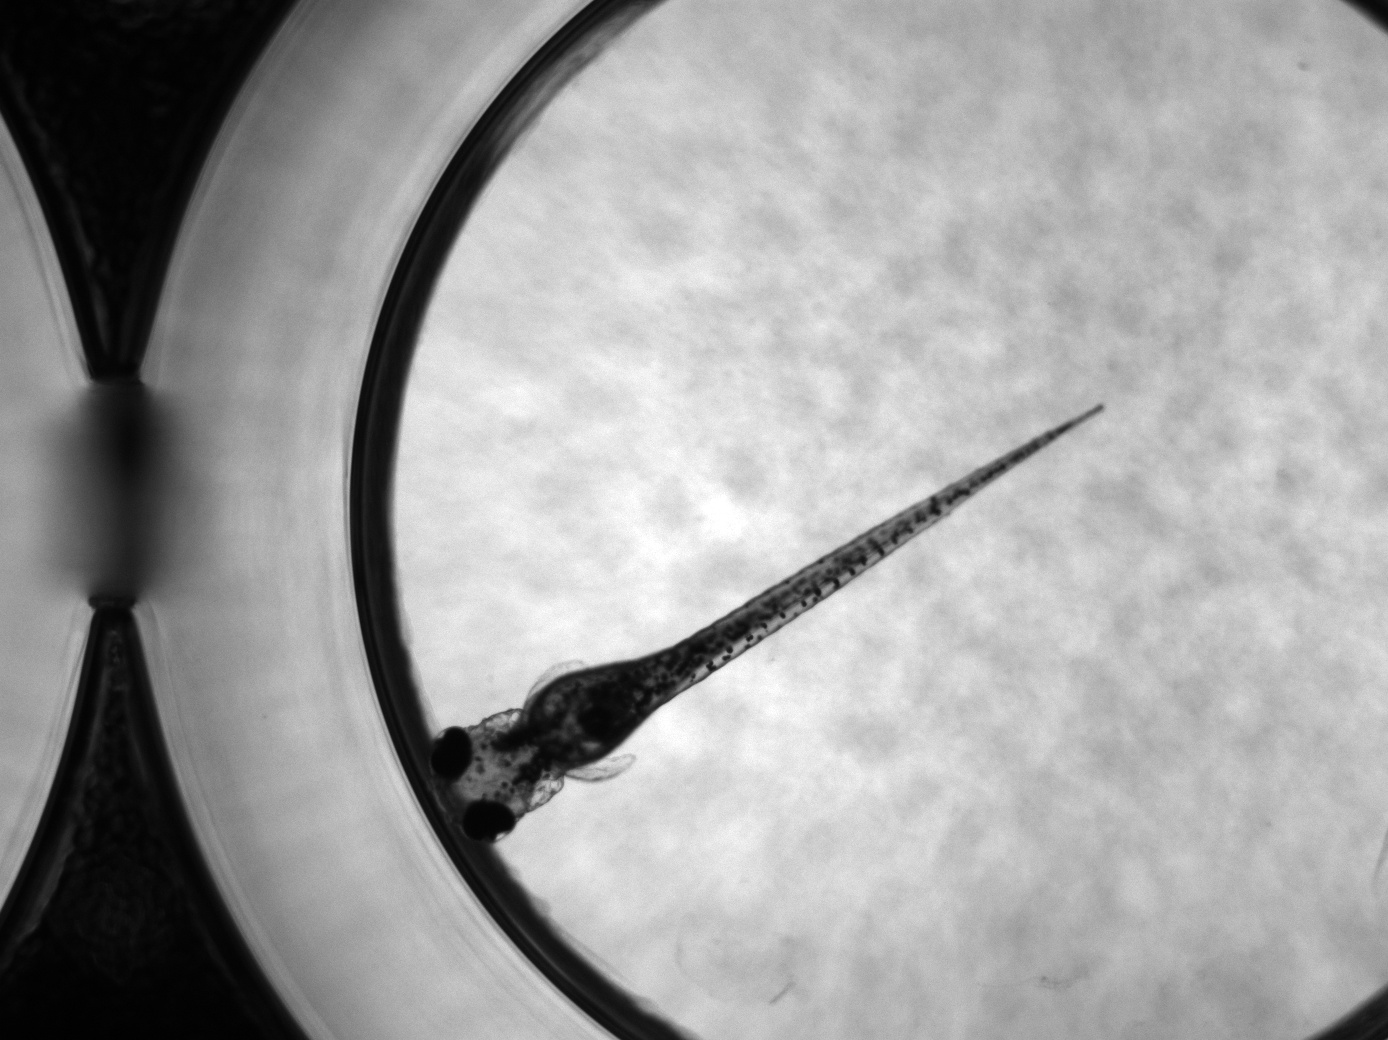embryo: (430, 402, 1106, 844)
eye: (462, 801, 517, 843), (432, 726, 472, 781)
yolksac: (526, 663, 646, 768)
